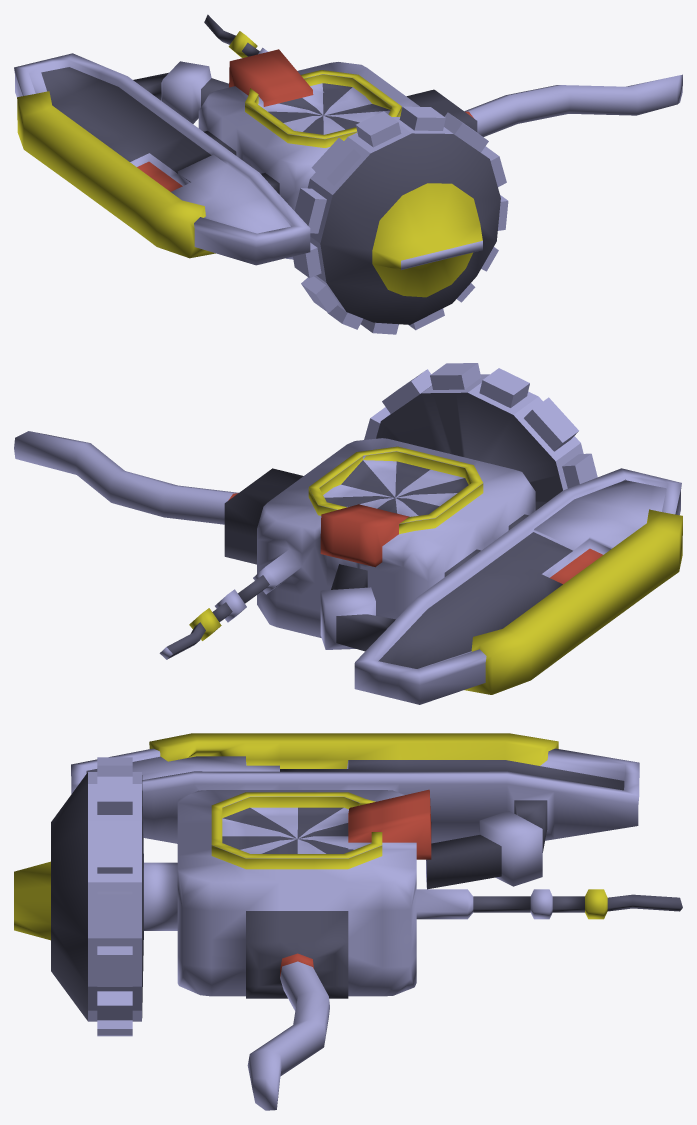
File: Scrap.FBX
3 views of the same model, one above another, from view 1: azimuth 30°, elevation 25°; view 2: azimuth 150°, elevation 25°; view 3: azimuth 270°, elevation 25° (orthographic). The views are drawn at different scales.
Visible parts, largest first — view 1: Box001; view 2: Box001; view 3: Box001.
Part boxes in pixels (<box>): Box001: <box>14,14,682,334</box>; Box001: <box>14,363,682,704</box>; Box001: <box>14,733,682,1110</box>.
Bounding box in the file's own units: 68 × 24.56 × 58.92.
